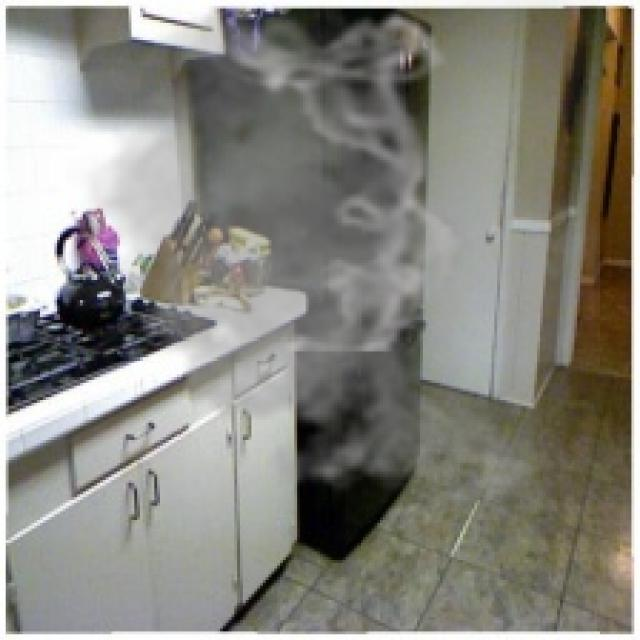Smoke: (65, 0, 600, 523)
